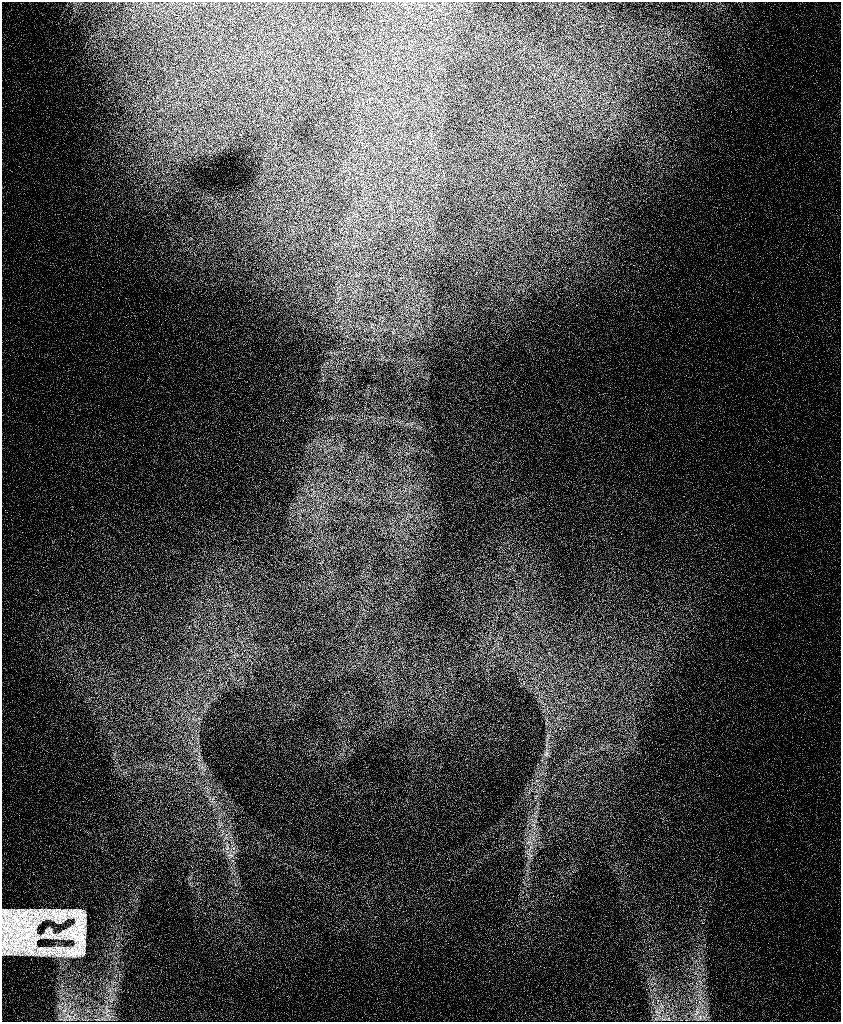lumbar scoliosis: (298, 55, 439, 608)
